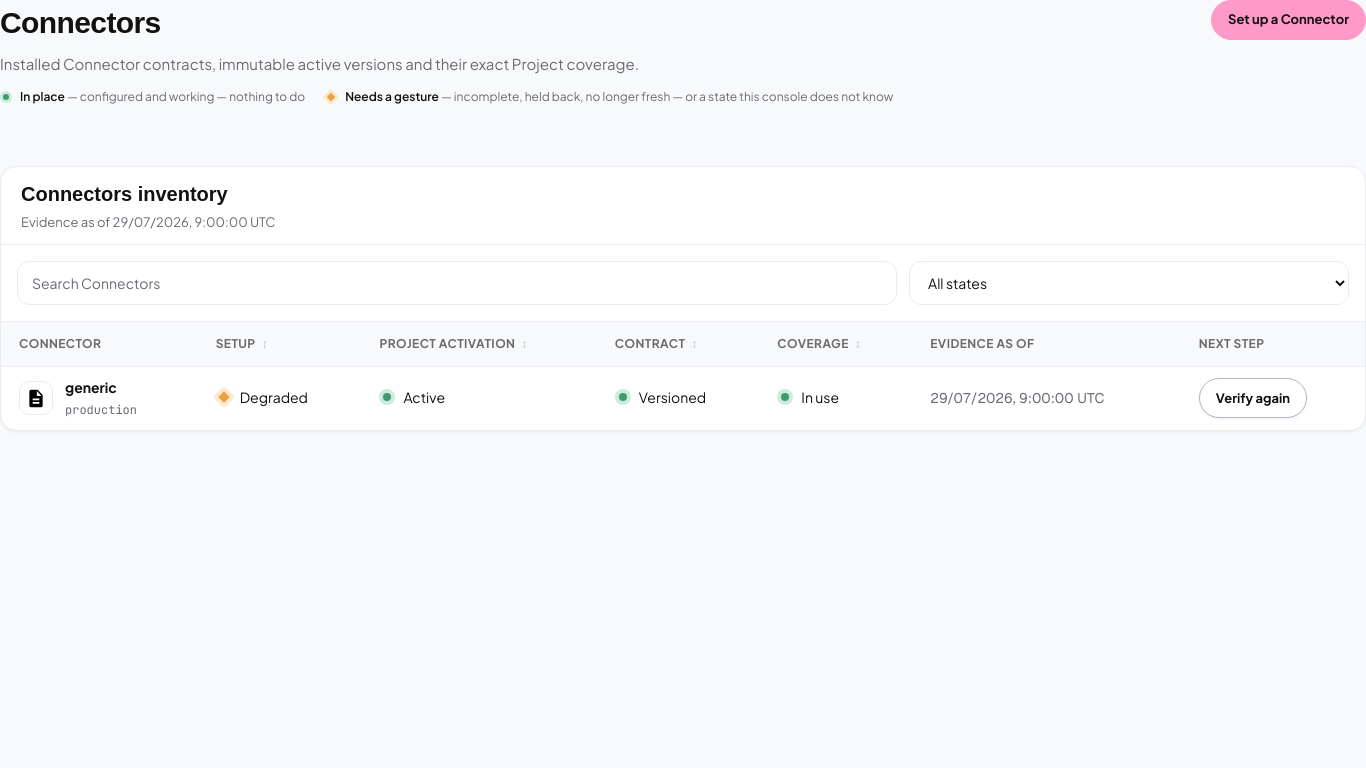
says what a degraded Connector is blocked on, in words, and offers the one repair
This screenshot has width=1366, height=768.
Click the button "Verify again": (1253, 398) [1199, 378, 1307, 418]
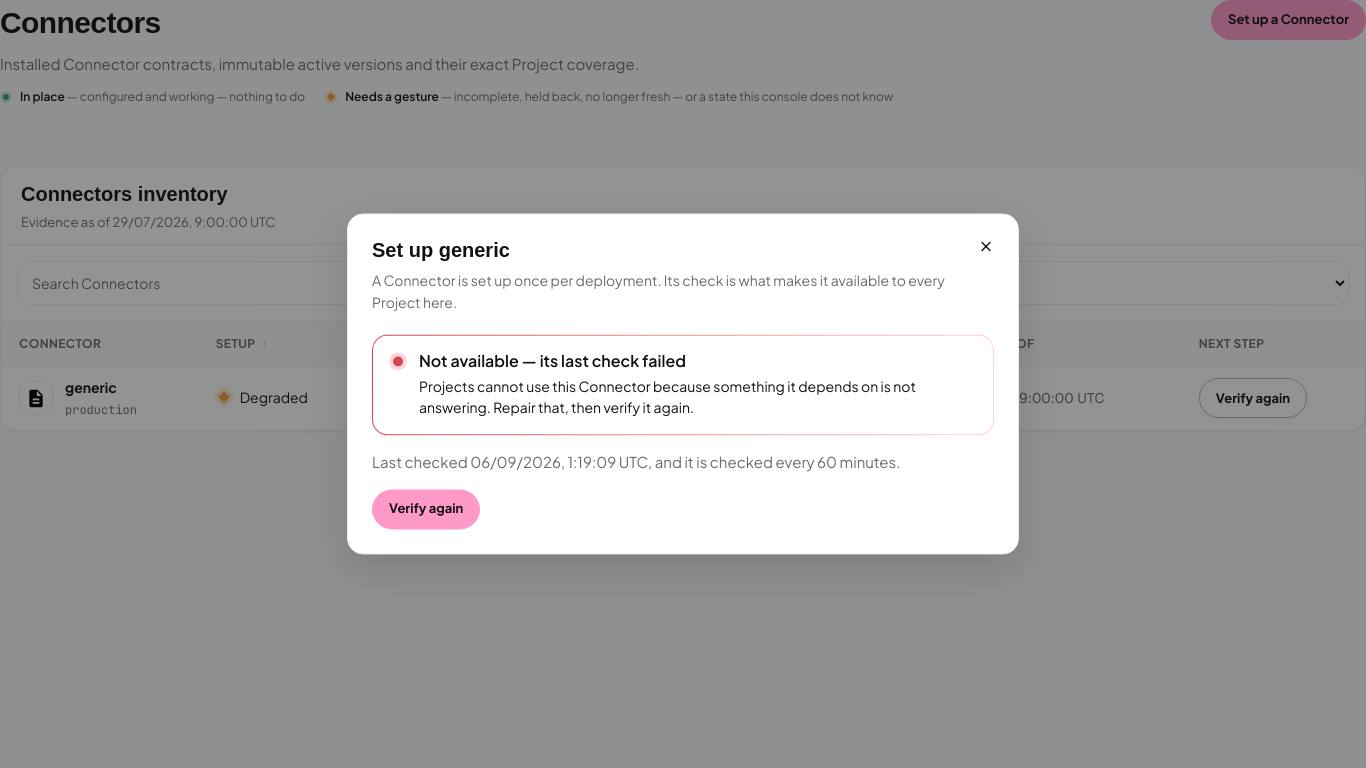
Expected: the text "something it depends on is not answering" is shown, [419, 377, 916, 416]
